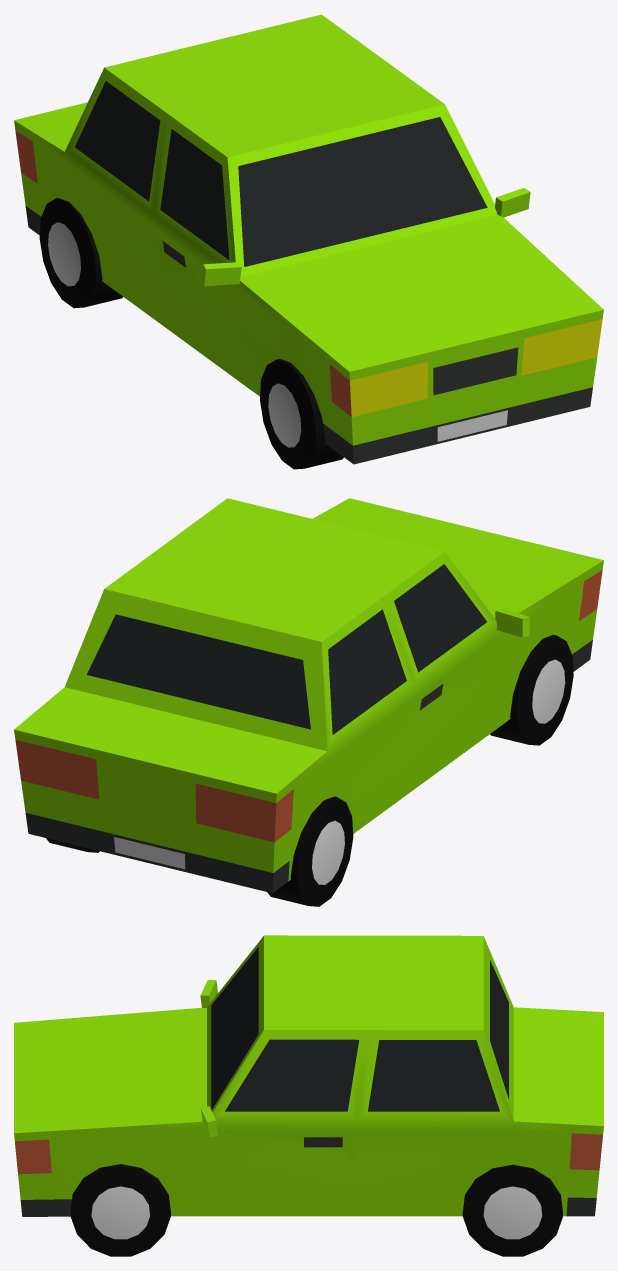
The model's file is Car2.fbx.
The picture shows the model from 3 angles, top to bottom: view 1: azimuth 30°, elevation 25°; view 2: azimuth 150°, elevation 25°; view 3: azimuth 270°, elevation 25°; orthographic projection. The views are drawn at different scales.
Parts seen in each view (by area): view 1: Body3, WheelRL4, WheelRL2, pCube3, pCube2; view 2: Body3, WheelRL4, WheelRL2, pCube3; view 3: Body3, WheelRL3, WheelRL1.
Boxes of the visible parts, x1,y1,x2,y2 form: Body3: [14, 14, 603, 464]; WheelRL4: [260, 359, 343, 469]; WheelRL2: [39, 198, 122, 308]; pCube3: [201, 262, 241, 286]; pCube2: [495, 188, 530, 217]; Body3: [14, 498, 603, 893]; WheelRL4: [490, 634, 573, 745]; WheelRL2: [267, 796, 353, 906]; pCube3: [495, 608, 529, 637]; Body3: [14, 935, 603, 1216]; WheelRL3: [70, 1164, 170, 1256]; WheelRL1: [462, 1164, 562, 1256].
Size of the model in its own units: 3.38 by 2.43 by 5.97.
